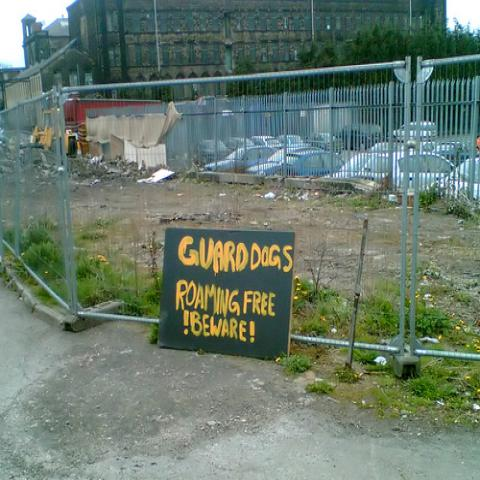car: (392, 149, 455, 188), (264, 147, 346, 176), (436, 154, 479, 200), (204, 146, 278, 172), (333, 152, 390, 182), (245, 149, 293, 174), (192, 138, 234, 165), (394, 121, 436, 141), (312, 132, 344, 154), (433, 140, 463, 162), (227, 136, 258, 152), (250, 136, 282, 146), (279, 135, 303, 148)
